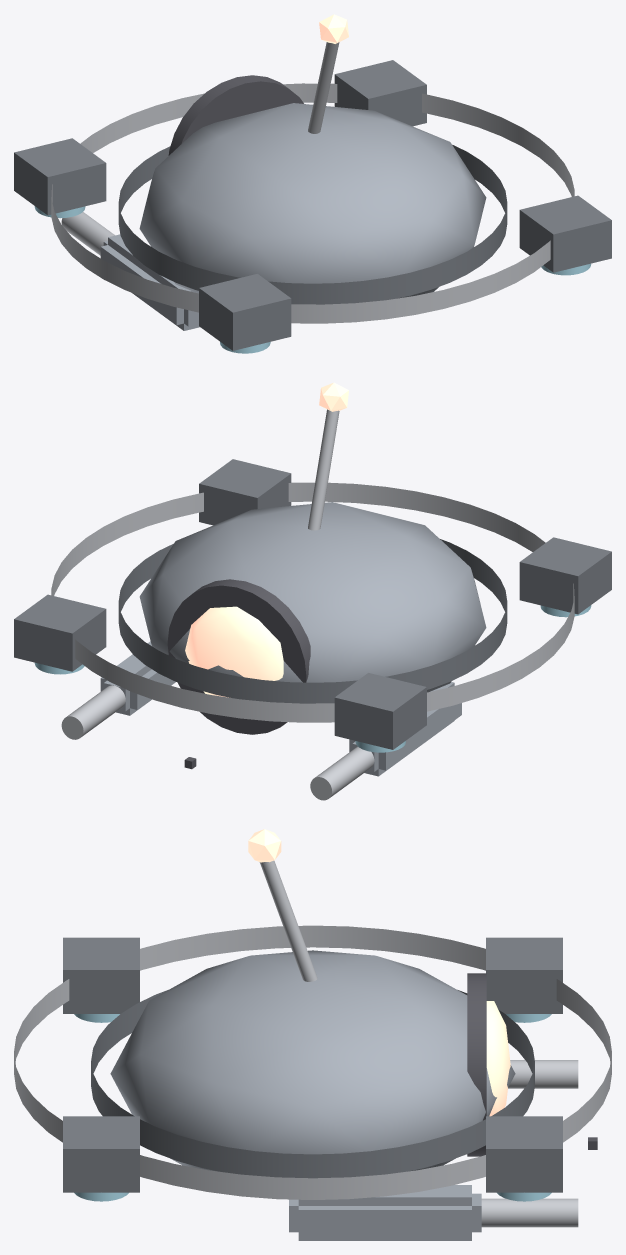
Rendered from sentinel.fbx.
3 views of the same model, one above another, from view 1: azimuth 30°, elevation 25°; view 2: azimuth 150°, elevation 25°; view 3: azimuth 270°, elevation 25° (orthographic). The views are drawn at different scales.
Parts seen in each view (by area): view 1: sentinel, Spin_Y_Ring; view 2: sentinel, Spin_Y_Ring; view 3: sentinel, Spin_Y_Ring.
Boxes of the visible parts, <box> form: sentinel: <box>61,14,507,330</box>; Spin_Y_Ring: <box>14,60,611,353</box>; sentinel: <box>61,382,507,800</box>; Spin_Y_Ring: <box>14,459,611,752</box>; sentinel: <box>91,829,578,1240</box>; Spin_Y_Ring: <box>14,925,611,1201</box>.
Size of the model in its own units: 1.24 by 0.78 by 1.24.
